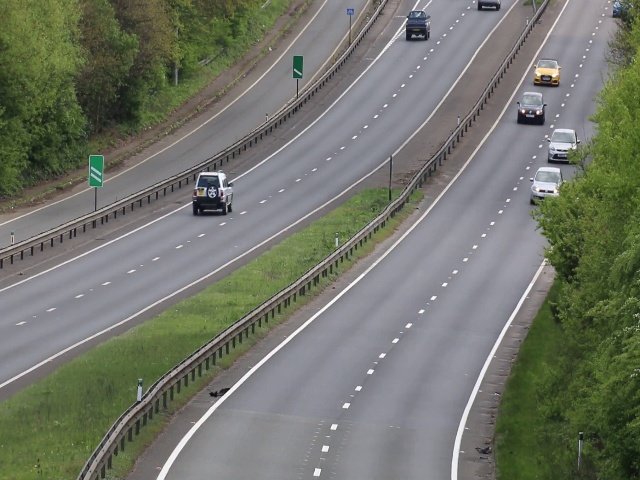car: (194, 169, 232, 213), (530, 166, 563, 208), (547, 126, 578, 163), (517, 88, 546, 127), (405, 8, 432, 44), (532, 56, 562, 87)
